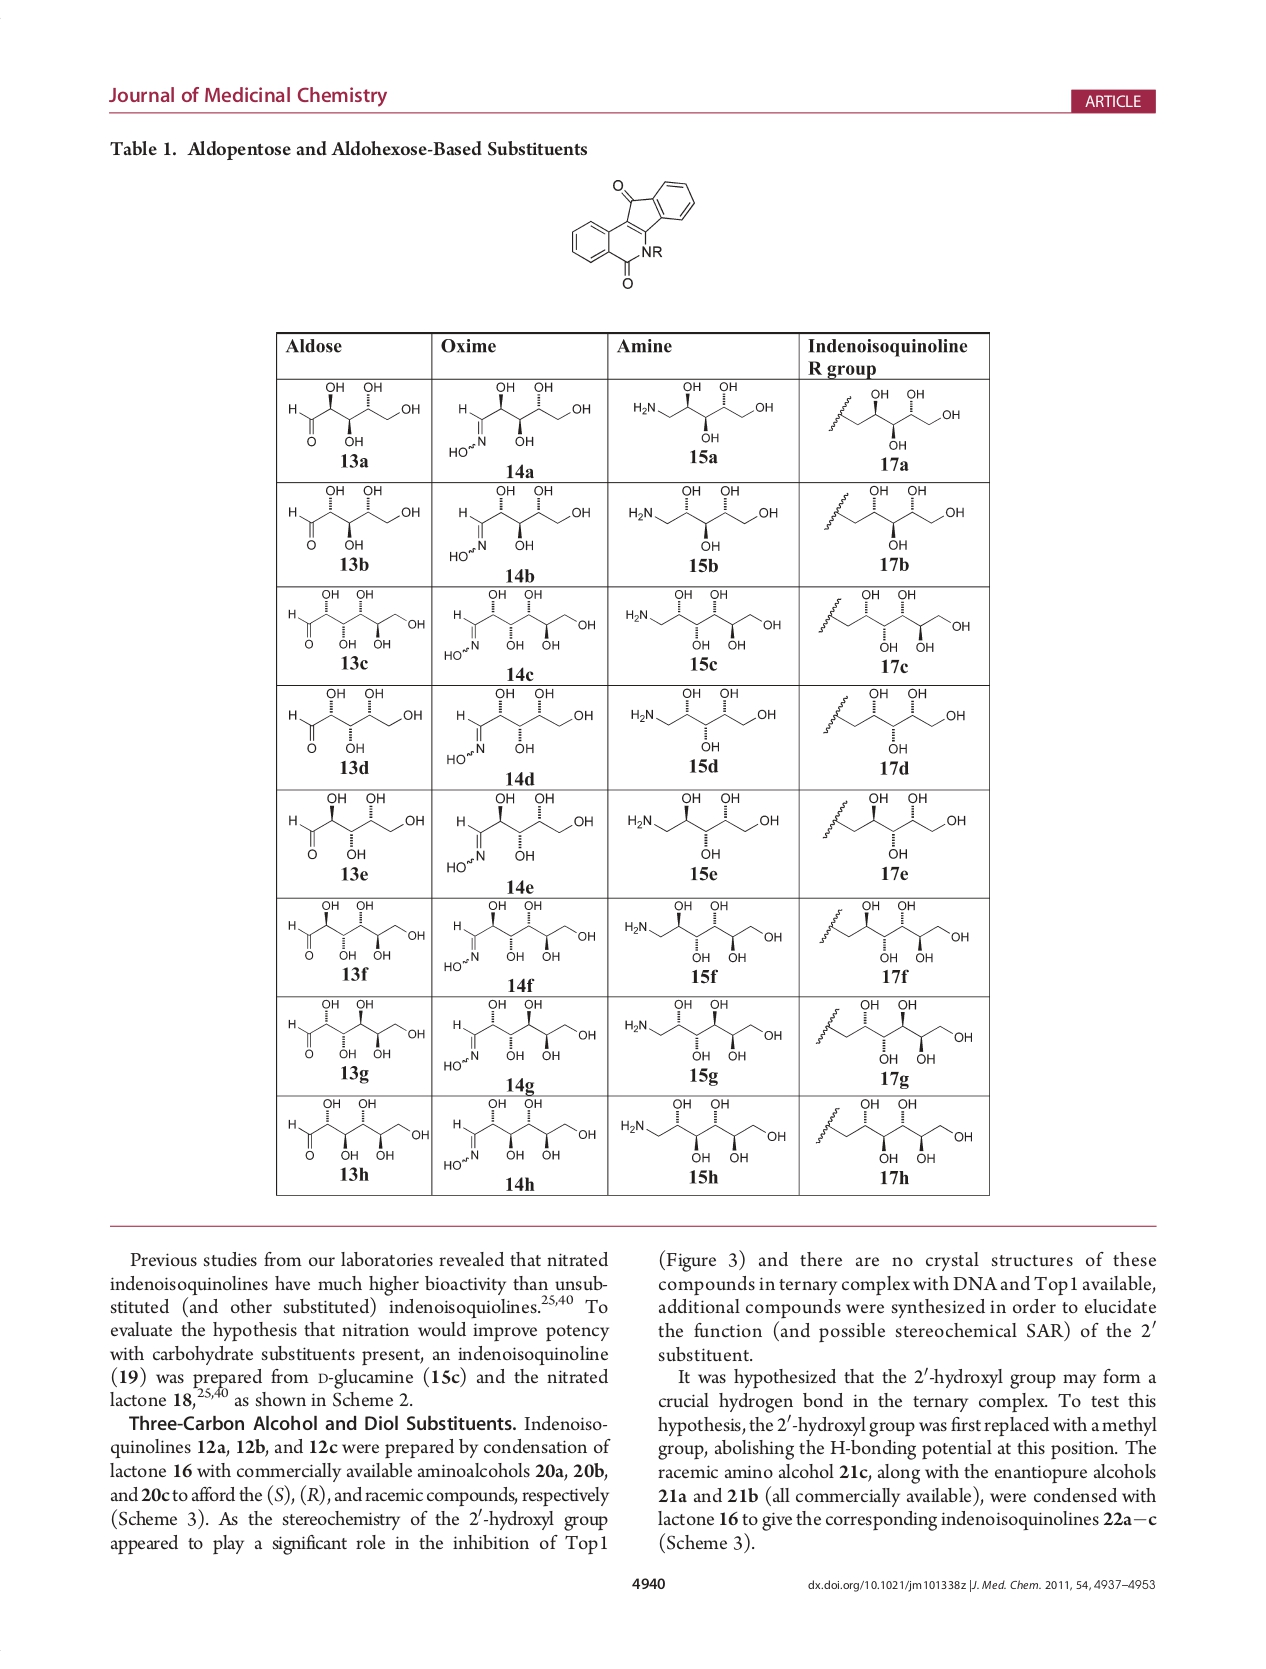exist_molecular: (564, 174, 697, 290), (444, 791, 597, 876), (616, 1097, 790, 1168), (442, 1096, 598, 1172), (445, 380, 594, 460), (445, 688, 598, 765), (440, 997, 598, 1072), (447, 483, 594, 563), (813, 997, 976, 1069), (814, 1097, 975, 1169), (620, 896, 786, 965), (443, 589, 600, 662), (622, 997, 789, 1064), (444, 900, 594, 973), (625, 793, 785, 860), (815, 588, 973, 656), (815, 898, 973, 965), (626, 484, 781, 553), (622, 588, 783, 652), (626, 688, 777, 755), (821, 688, 971, 755), (821, 793, 971, 860), (822, 483, 967, 552), (285, 1097, 432, 1164), (287, 380, 426, 451), (824, 383, 965, 452), (289, 790, 427, 860), (286, 484, 422, 555), (286, 688, 424, 755), (286, 997, 430, 1063), (632, 380, 777, 444), (286, 898, 427, 963), (287, 588, 426, 653)
